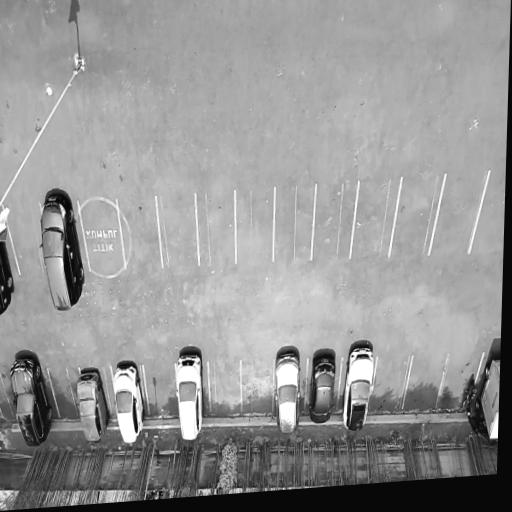Car: (39, 190, 87, 313), (5, 351, 58, 450), (339, 341, 379, 433), (110, 361, 146, 450), (174, 347, 207, 444), (471, 349, 501, 451), (76, 368, 112, 445), (274, 344, 303, 435), (307, 352, 340, 431), (0, 235, 14, 318)
Space Available: (430, 171, 489, 255), (390, 175, 445, 259), (350, 178, 401, 262), (312, 181, 359, 262), (78, 199, 126, 273), (1, 200, 46, 276), (274, 185, 315, 265), (118, 197, 162, 269), (196, 191, 236, 270), (158, 194, 199, 269), (234, 188, 274, 264), (402, 355, 449, 416), (369, 357, 413, 415), (143, 363, 177, 419), (208, 360, 241, 416), (241, 360, 274, 416), (47, 369, 81, 421), (0, 374, 17, 423)
